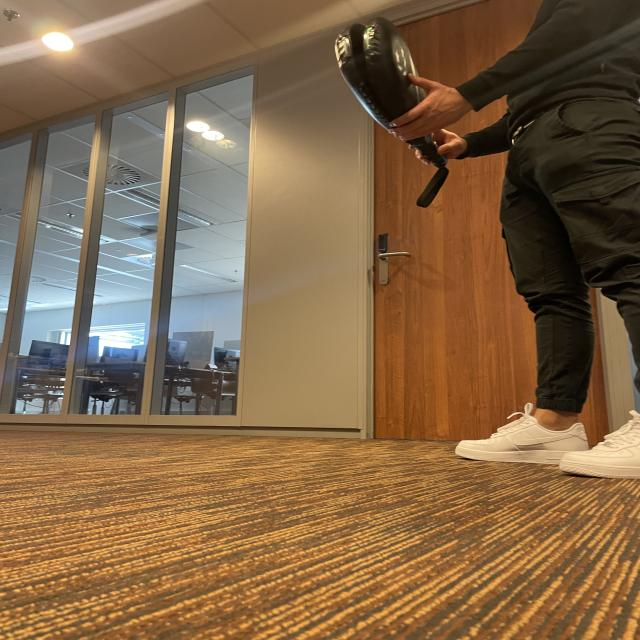paddle: (338, 20, 420, 116)
trigger: (364, 25, 375, 54)
